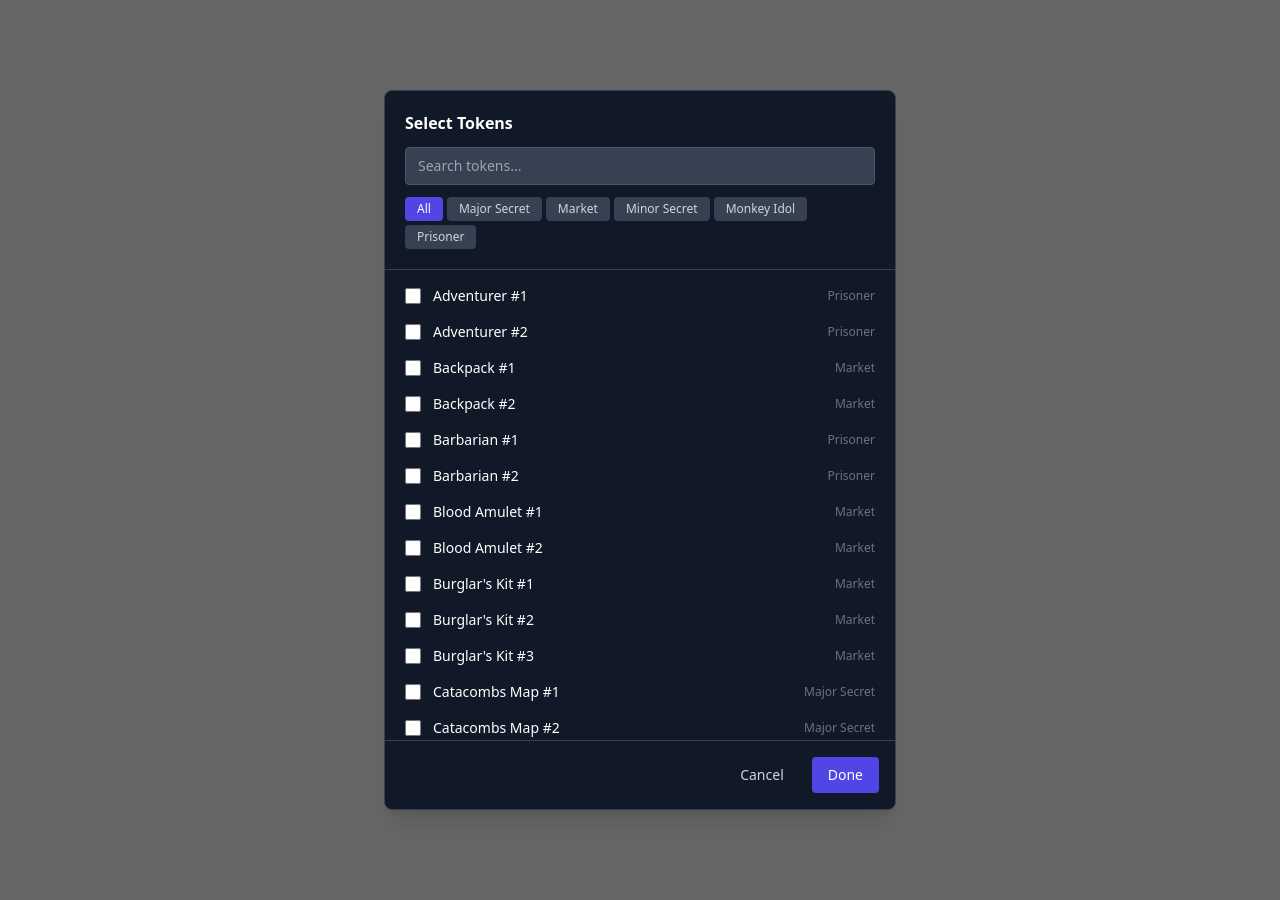
Test: TokenPickerModal › filtering by Prisoner type shows only prisoners
Click the button "Prisoner": (441, 237) top-left (405, 225), bottom-right (476, 249)
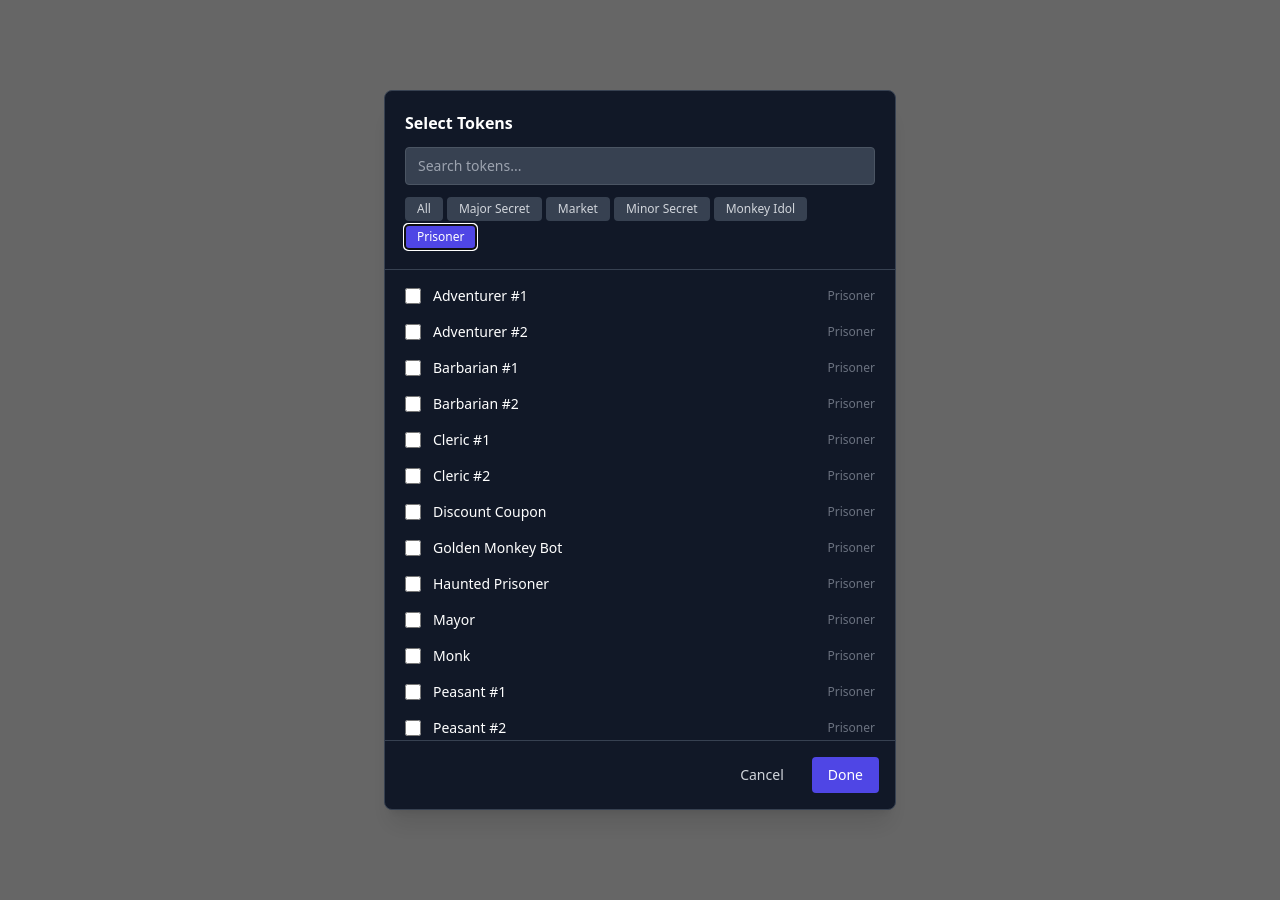
Expected: the text "Adventurer #1" is shown, top-left (433, 286), bottom-right (528, 305)
Result: the text "Discount Coupon" is shown at top-left (433, 502), bottom-right (546, 521)
